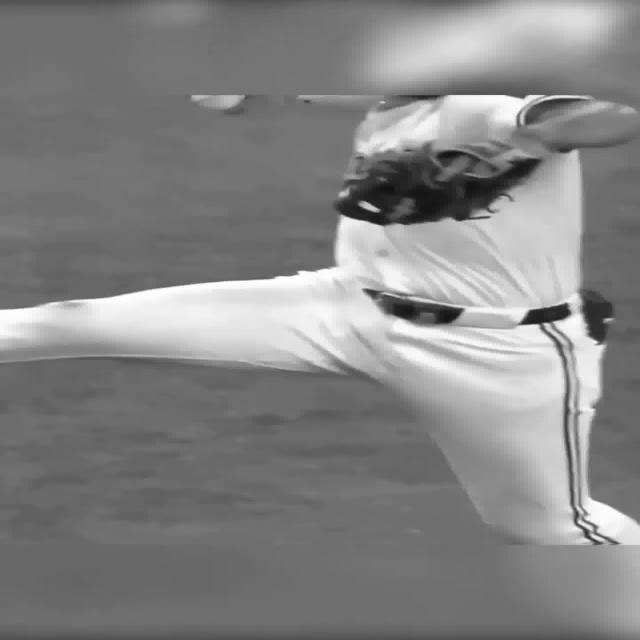baseball: (189, 94, 245, 110)
baseball_glove: (332, 138, 531, 227)
